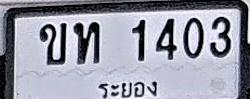0: (183, 17, 203, 58)
1: (132, 20, 145, 61)
3: (210, 16, 230, 57)
4: (156, 18, 177, 59)
A02: (40, 22, 66, 64)
A23: (74, 22, 99, 64)
RYG: (96, 77, 160, 99)
